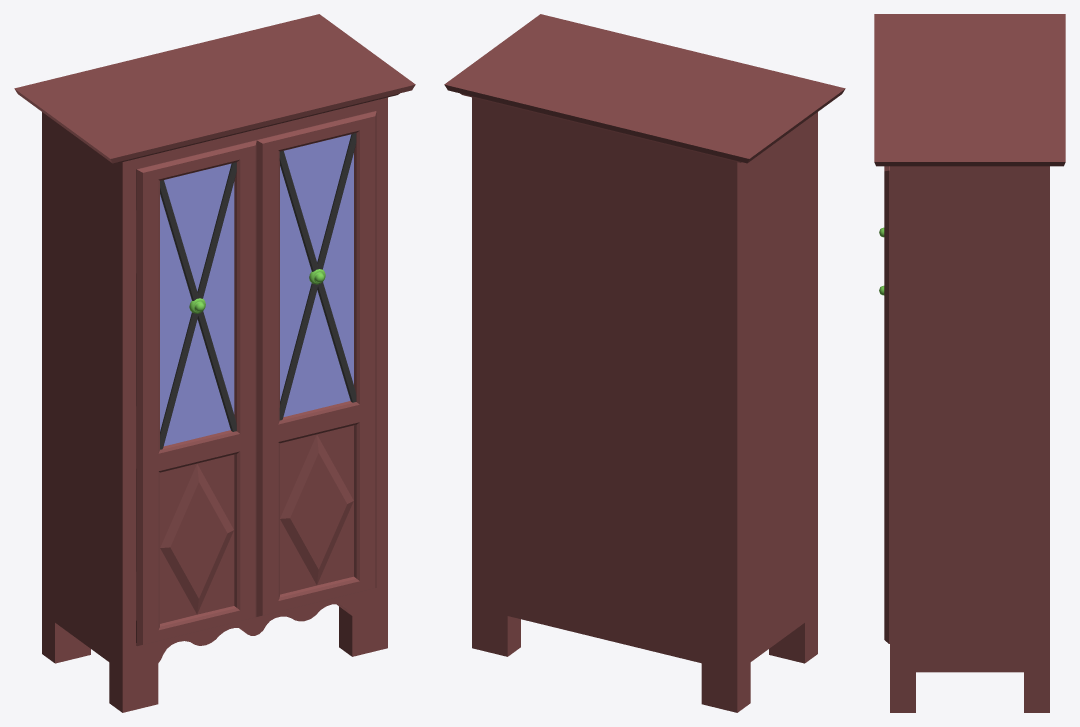
The model's file is Armario UPDATE.fbx.
The picture shows the model from 3 angles, left to right: view 1: azimuth 30°, elevation 25°; view 2: azimuth 150°, elevation 25°; view 3: azimuth 270°, elevation 25°; orthographic projection.
Visible parts, largest first — view 1: Armario, Porta direita, porta esquerda; view 2: Armario; view 3: Armario, Porta direita.
Part boxes in pixels (x1=…): Armario: x1=14, y1=14, x2=415, y2=712; Porta direita: x1=256, y1=111, x2=376, y2=616; porta esquerda: x1=136, y1=140, x2=256, y2=646; Armario: x1=444, y1=14, x2=845, y2=712; Armario: x1=874, y1=14, x2=1065, y2=712; Porta direita: x1=879, y1=166, x2=889, y2=643.
Size of the model in its own units: 55.49 by 98.06 by 30.36.
